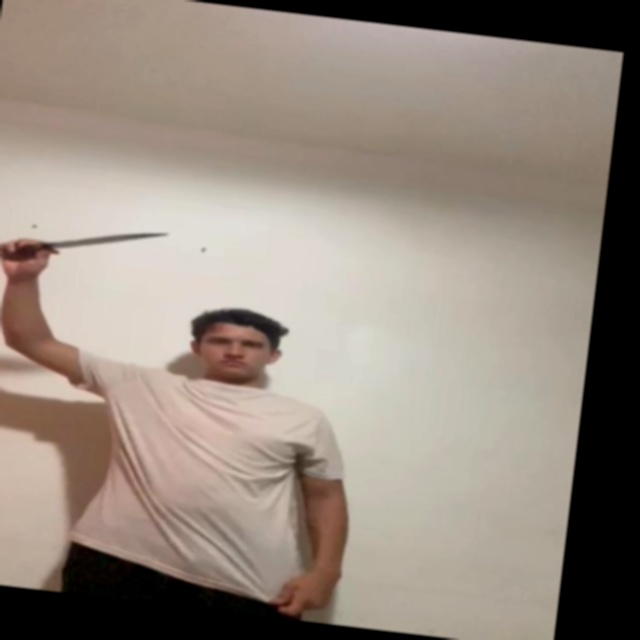Sharp-Object: (50, 216, 171, 263)
